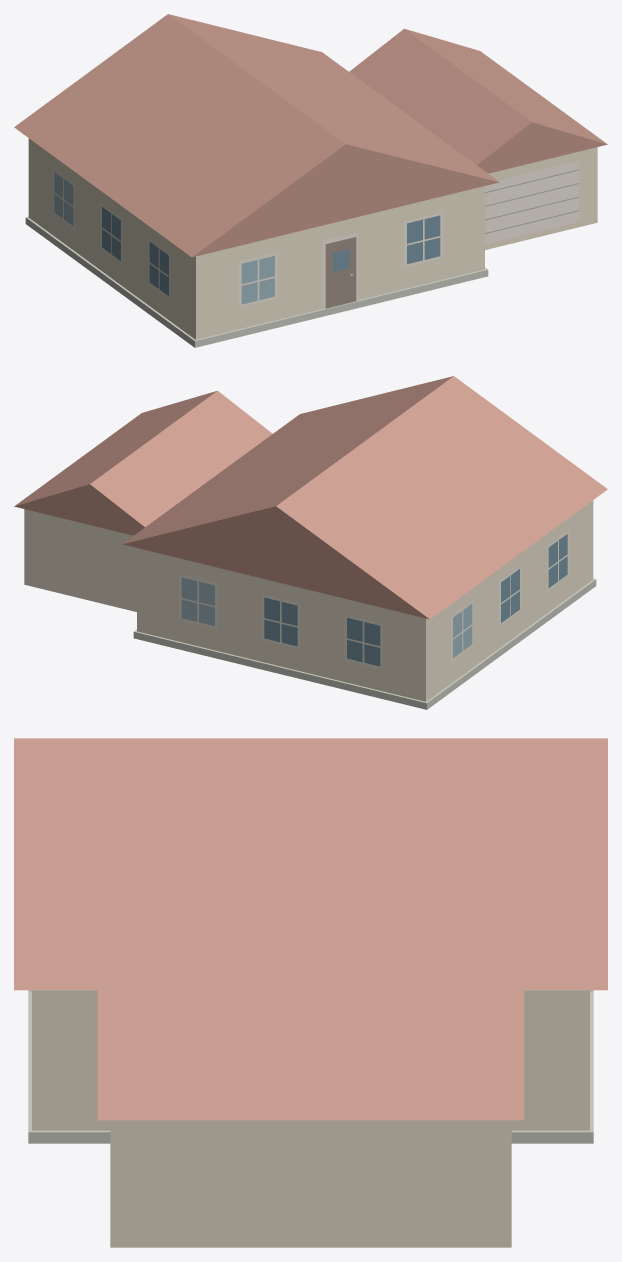
File: house-garage-right.glb
3 renders of one model, top to bottom at view 1: azimuth 30°, elevation 25°; view 2: azimuth 150°, elevation 25°; view 3: azimuth 270°, elevation 25°, orthographic. The views are drawn at different scales.
Parts seen in each view (by area): view 1: house-garage-right; view 2: house-garage-right; view 3: house-garage-right.
Part boxes in pixels (box(x1,y1,x2,y2)): house-garage-right: box(14, 14, 607, 347); house-garage-right: box(14, 376, 607, 709); house-garage-right: box(14, 738, 607, 1247).
Size of the model in its own units: 15.25 by 5.65 by 10.65.
